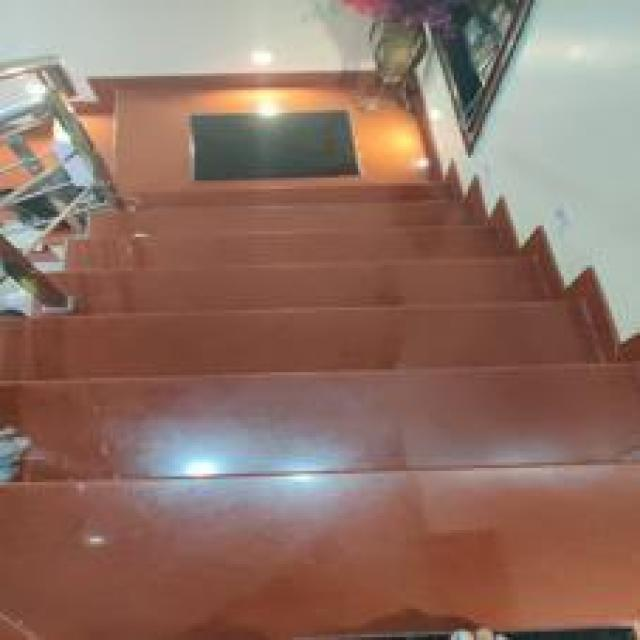downstair: (108, 297, 528, 528)
